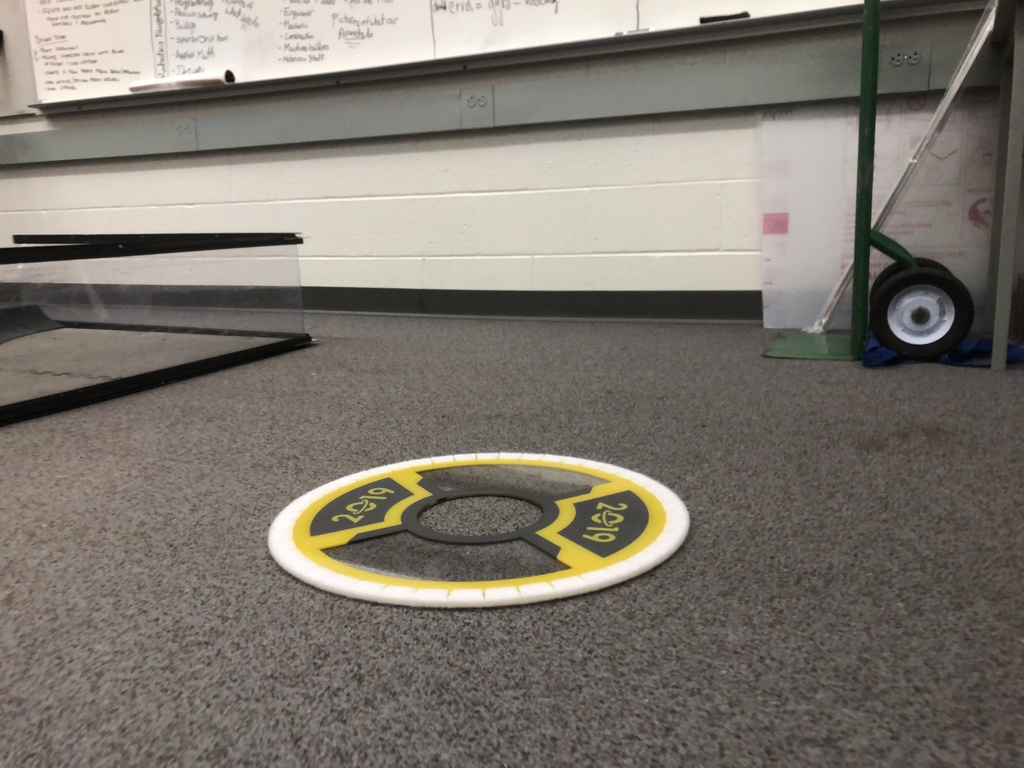hatch_panel: (262, 444, 711, 617)
